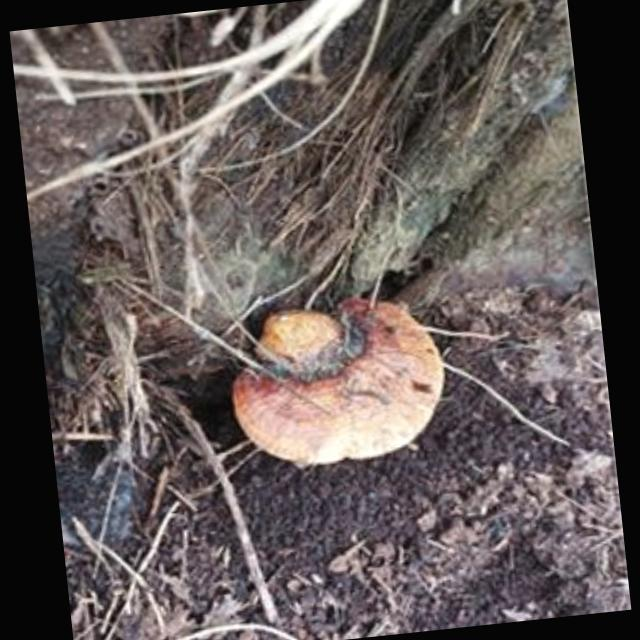ganoderma: (221, 286, 456, 480)
